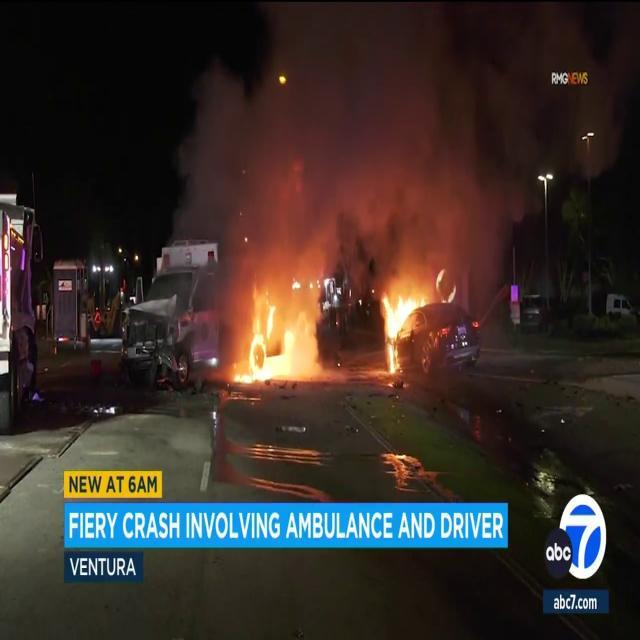Fire: (227, 285, 325, 392), (376, 279, 430, 374)
Smoke: (166, 5, 519, 266)
